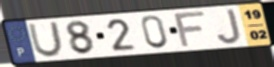0: (141, 14, 170, 50)
2: (105, 18, 139, 53)
8: (64, 19, 97, 56)
F: (172, 9, 208, 49)
J: (215, 7, 243, 46)
U: (27, 21, 65, 59)
